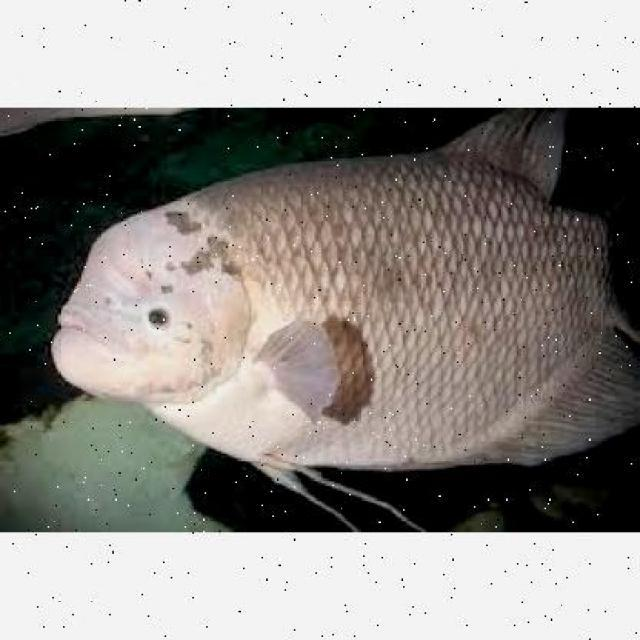gurame: (53, 136, 639, 492)
